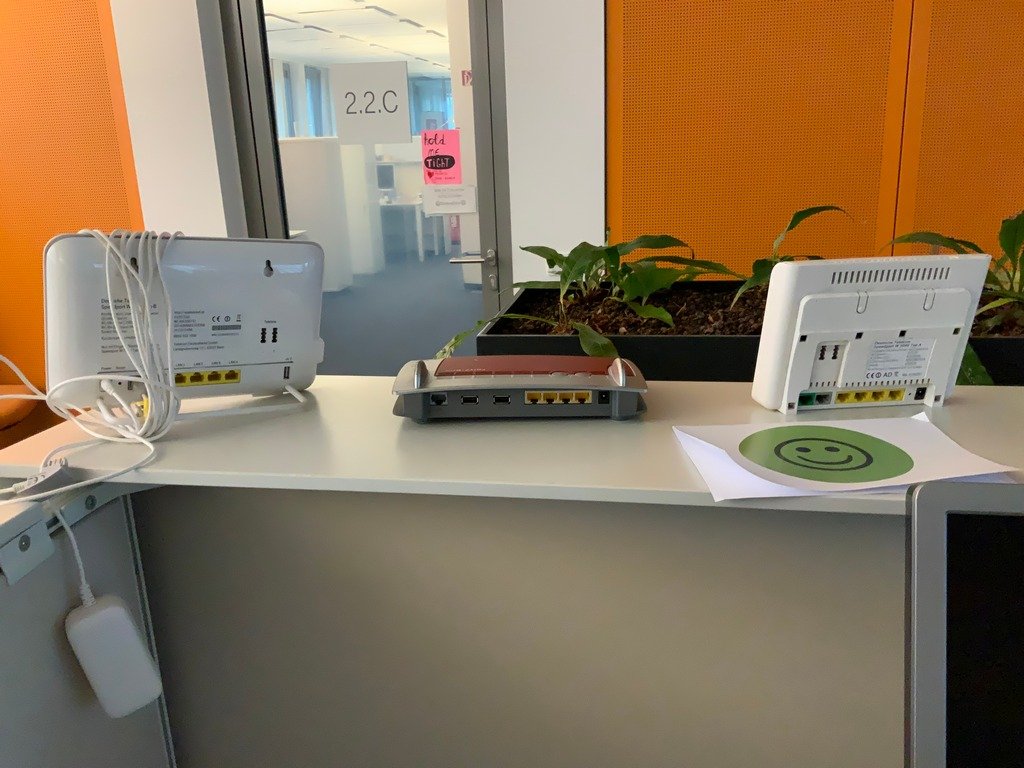Router2: (752, 246, 998, 418)
router: (44, 232, 324, 423)
router3: (392, 356, 650, 427)
